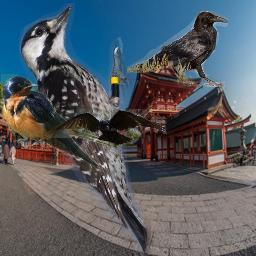Crow: (127, 11, 228, 87), (43, 109, 167, 152)
Swallow: (1, 74, 122, 166)
Woodpecker: (19, 3, 151, 255)
